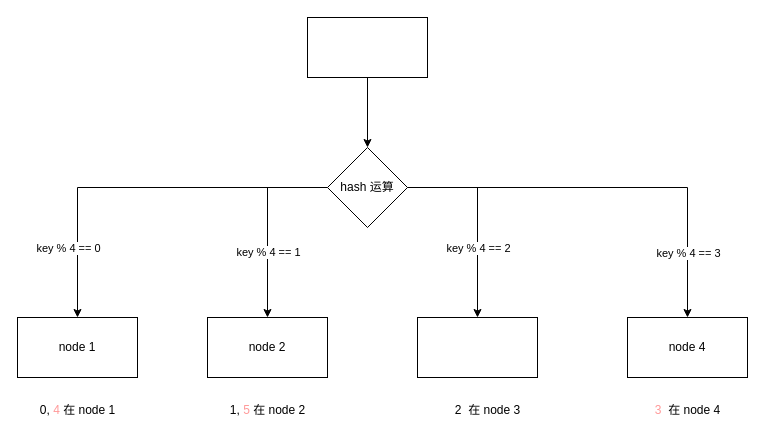
This 765x443 diagram has some shape labels left out. Here are the shapes that lost their labels. From the top down, the box of each, then its label:
(306, 16, 428, 78): 原始值
(416, 316, 538, 378): node 3
